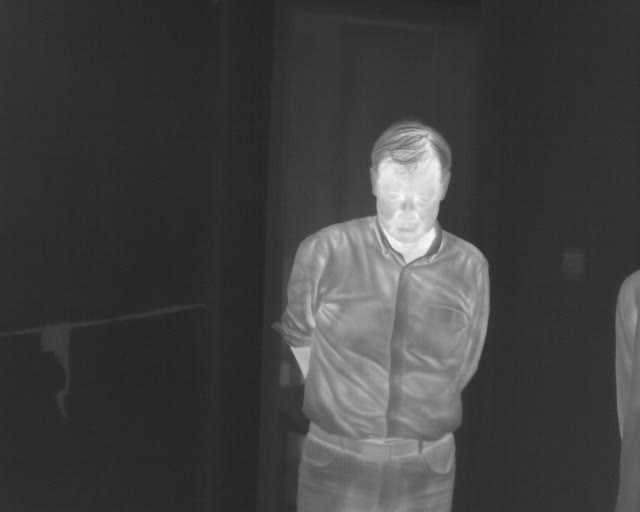face: (368, 118, 453, 247)
